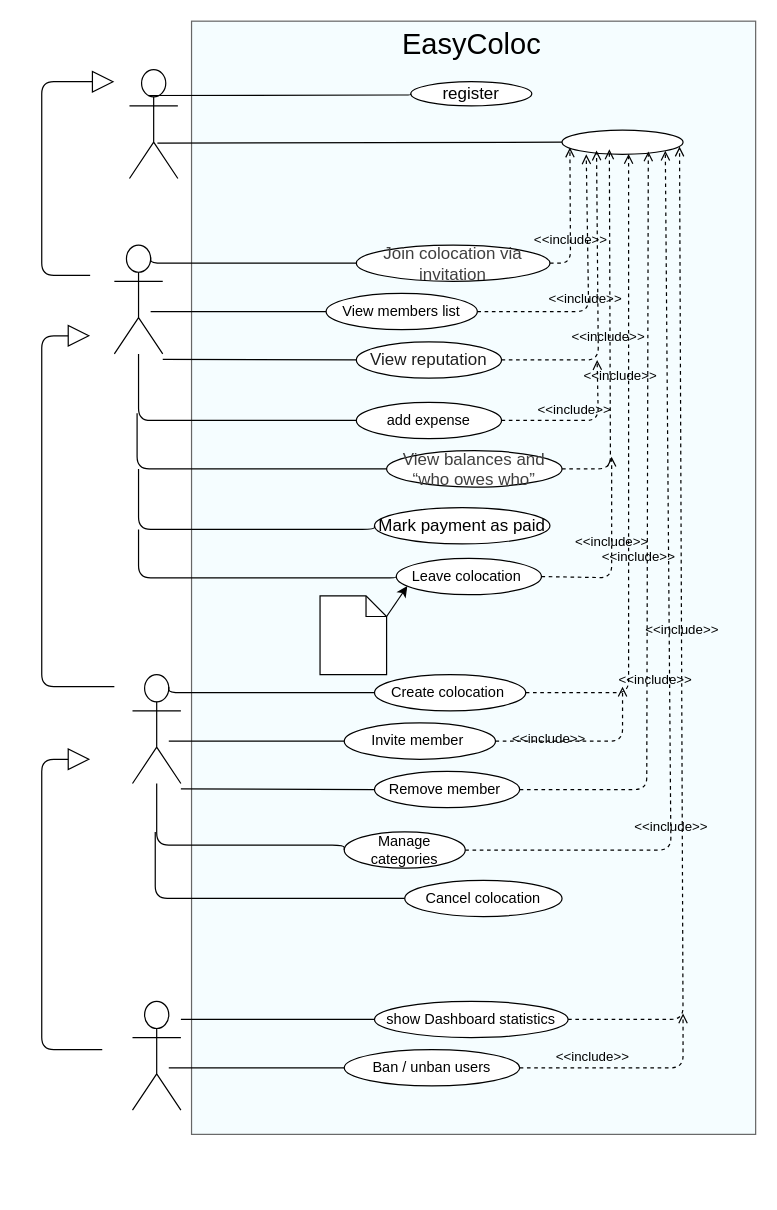
This 777x1210 diagram has some shape labels left out. Each missing label, with the centre of its shape:
"Admin" goes at point 156,1055.
"login" goes at point 622,141.
"Member" goes at point 138,299.
"Owner" goes at point 156,728.
"Owner cannot leave colocation" goes at point 353,635.
"User" goes at point 153,123.
